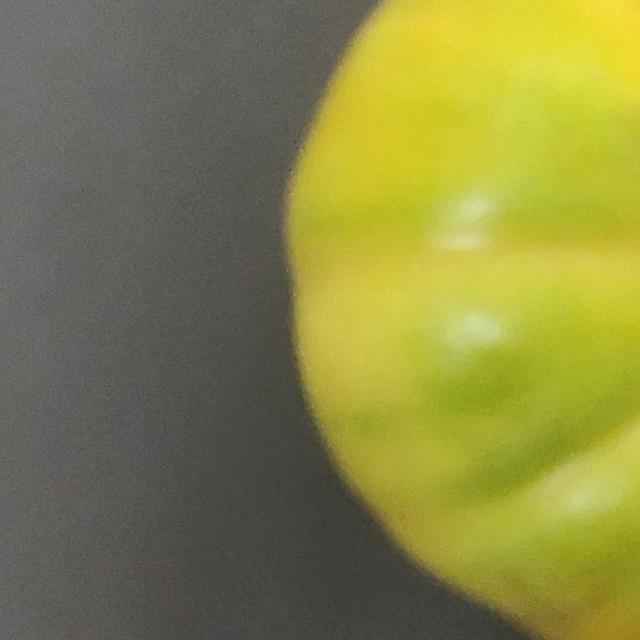tomato: (168, 0, 640, 640)
